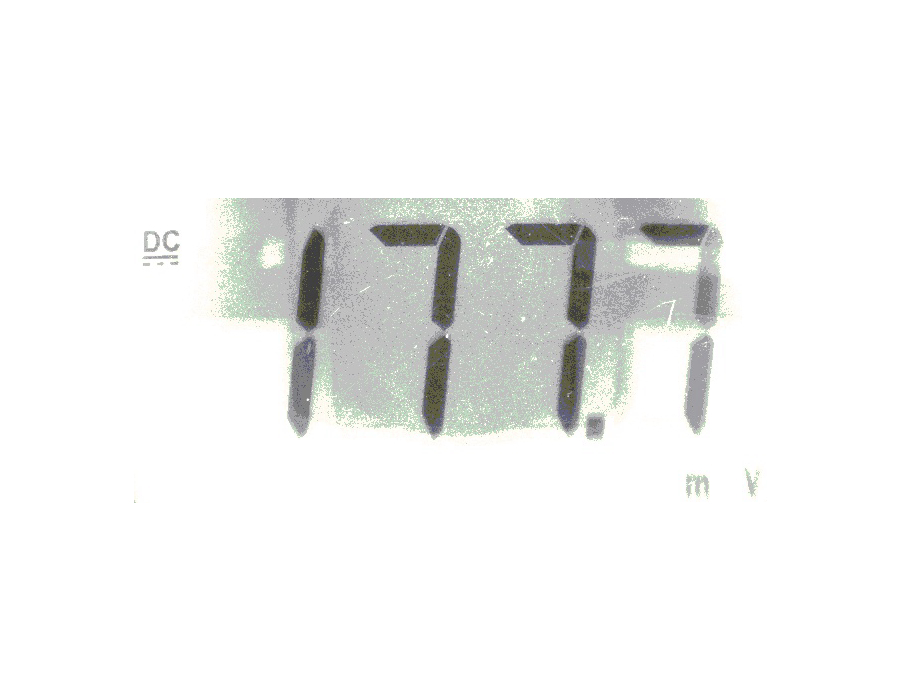.: (581, 408, 610, 449), (585, 413, 606, 441)
1: (239, 221, 343, 443), (285, 225, 328, 440)
7: (365, 221, 465, 441), (502, 222, 599, 439), (638, 222, 728, 436)
